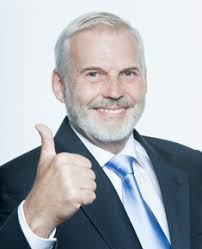white_male: (53, 26, 148, 134)
